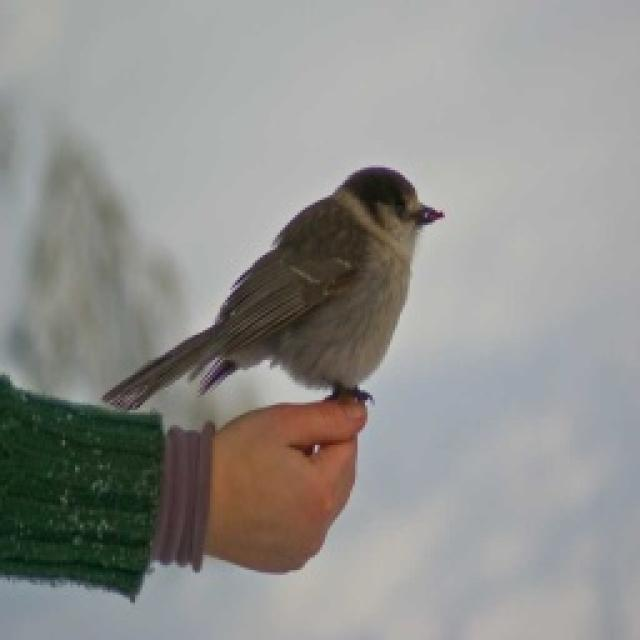sparrow: (97, 160, 445, 415)
